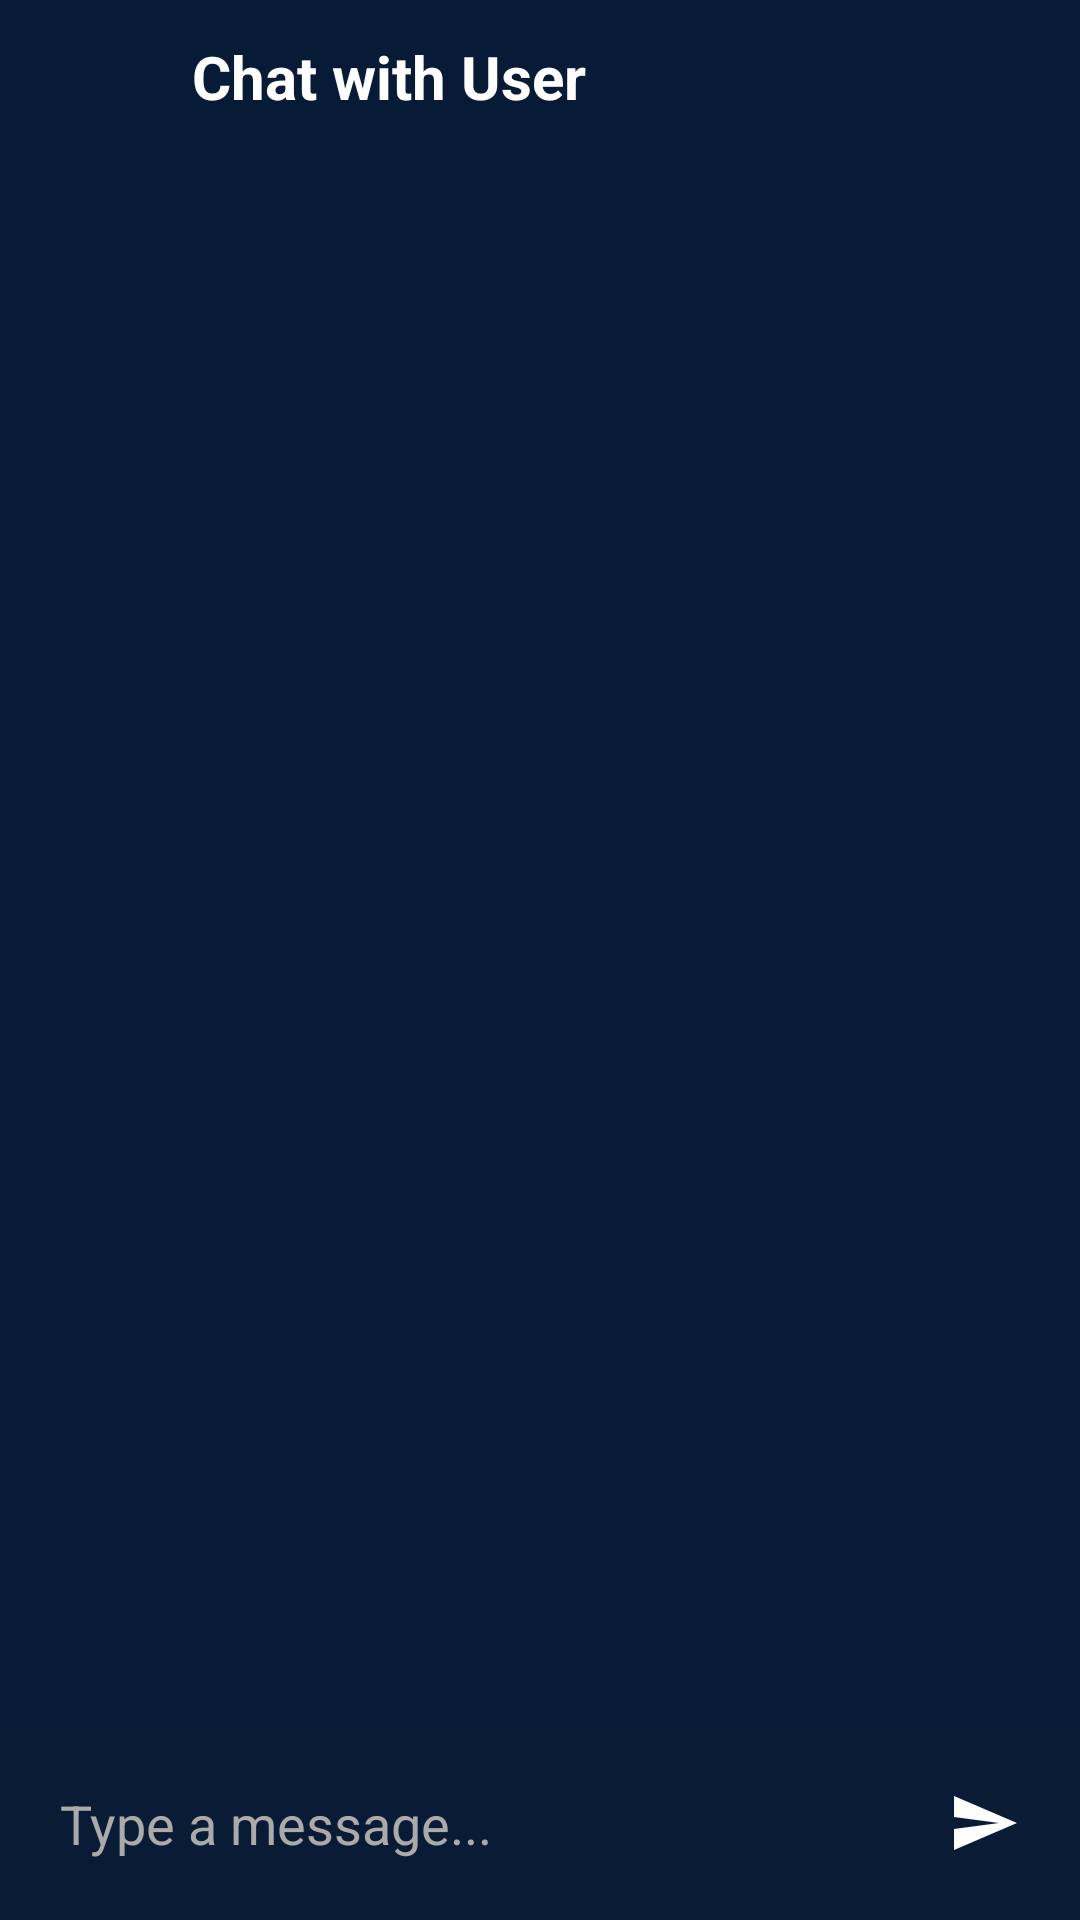

Icon bounding boxes for this 1080px×1920px phone screenshot, format {"left": x1, "top": y1, "right": x2, "bottom": y2}:
Send: {"left": 954, "top": 1796, "right": 1017, "bottom": 1850}
